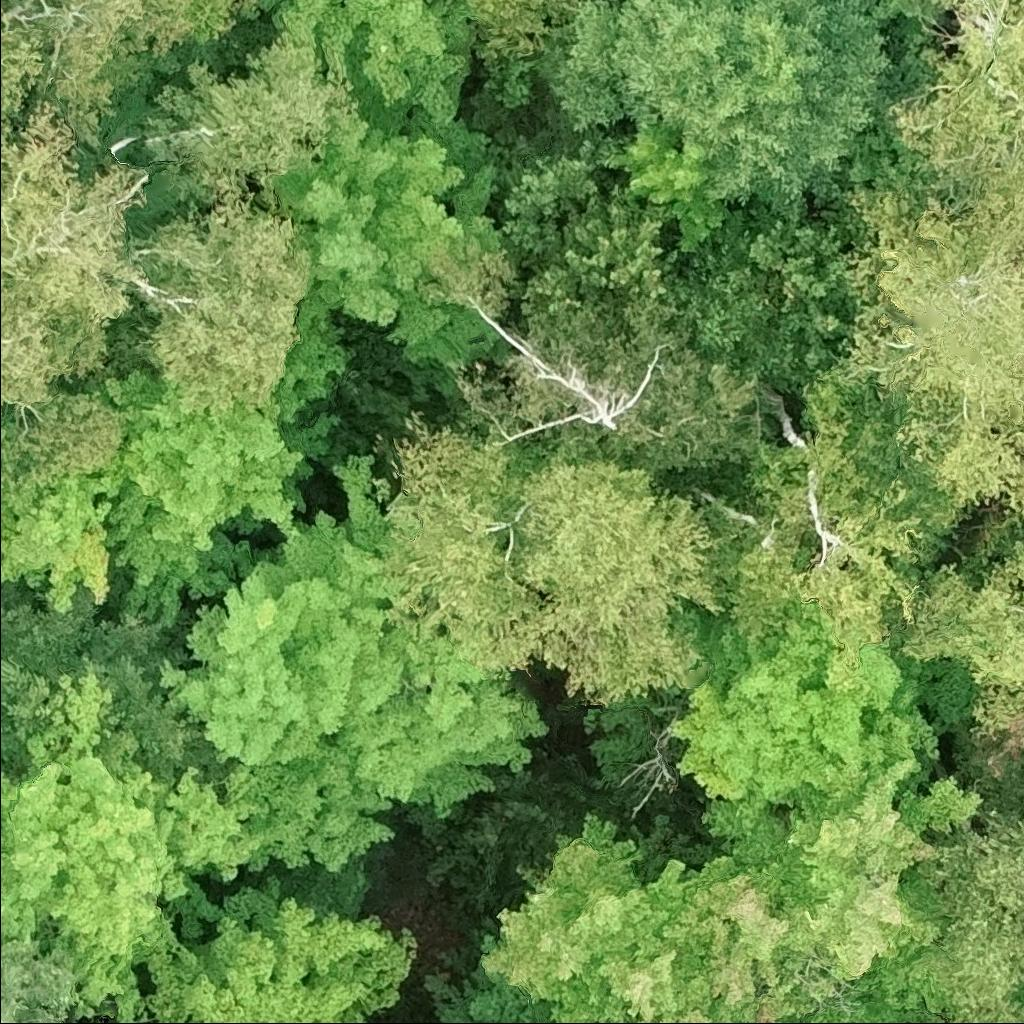crown: (155, 451, 553, 872), (0, 98, 317, 485), (377, 410, 736, 709), (0, 668, 271, 1023), (709, 354, 953, 691), (525, 0, 899, 212), (267, 107, 511, 428), (479, 813, 791, 1023), (699, 757, 985, 978), (99, 367, 339, 628), (842, 184, 1023, 526), (664, 623, 944, 813), (139, 854, 422, 1023), (0, 587, 228, 794), (688, 182, 876, 397), (149, 30, 356, 202), (0, 0, 200, 152), (253, 0, 474, 129), (888, 0, 1023, 206), (469, 304, 653, 445), (907, 806, 1023, 1023), (898, 537, 1023, 736), (0, 427, 118, 612), (608, 119, 735, 255), (564, 180, 675, 302), (502, 153, 603, 260), (463, 0, 583, 68), (423, 966, 549, 1023), (0, 935, 81, 1023), (0, 1, 44, 133), (868, 0, 946, 41), (204, 0, 262, 38)
